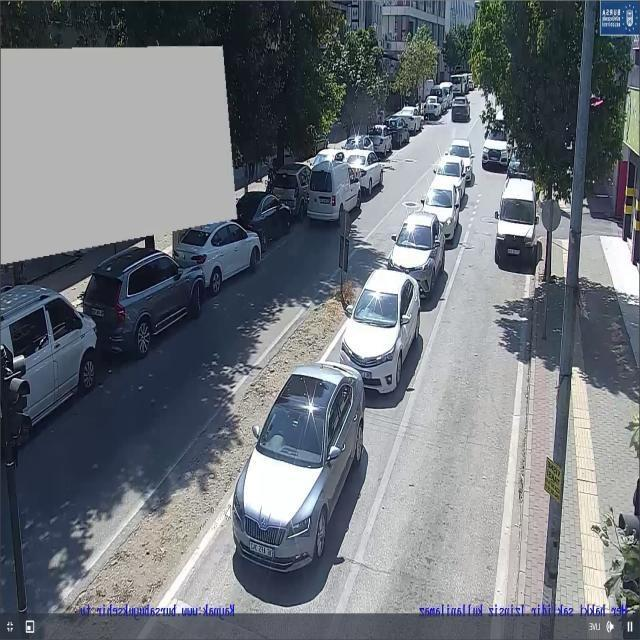Car: (228, 360, 368, 577), (2, 288, 100, 437), (81, 247, 204, 358), (338, 270, 422, 393), (170, 222, 263, 293), (384, 212, 446, 298), (494, 175, 542, 266), (235, 192, 292, 246), (418, 180, 464, 242), (265, 163, 313, 216), (337, 149, 386, 195), (430, 155, 470, 201), (482, 123, 514, 170), (444, 139, 475, 183), (339, 134, 377, 161), (360, 127, 394, 157), (388, 108, 422, 136), (382, 120, 412, 148), (451, 95, 471, 122), (423, 96, 445, 119)
Van: (306, 158, 362, 222)
